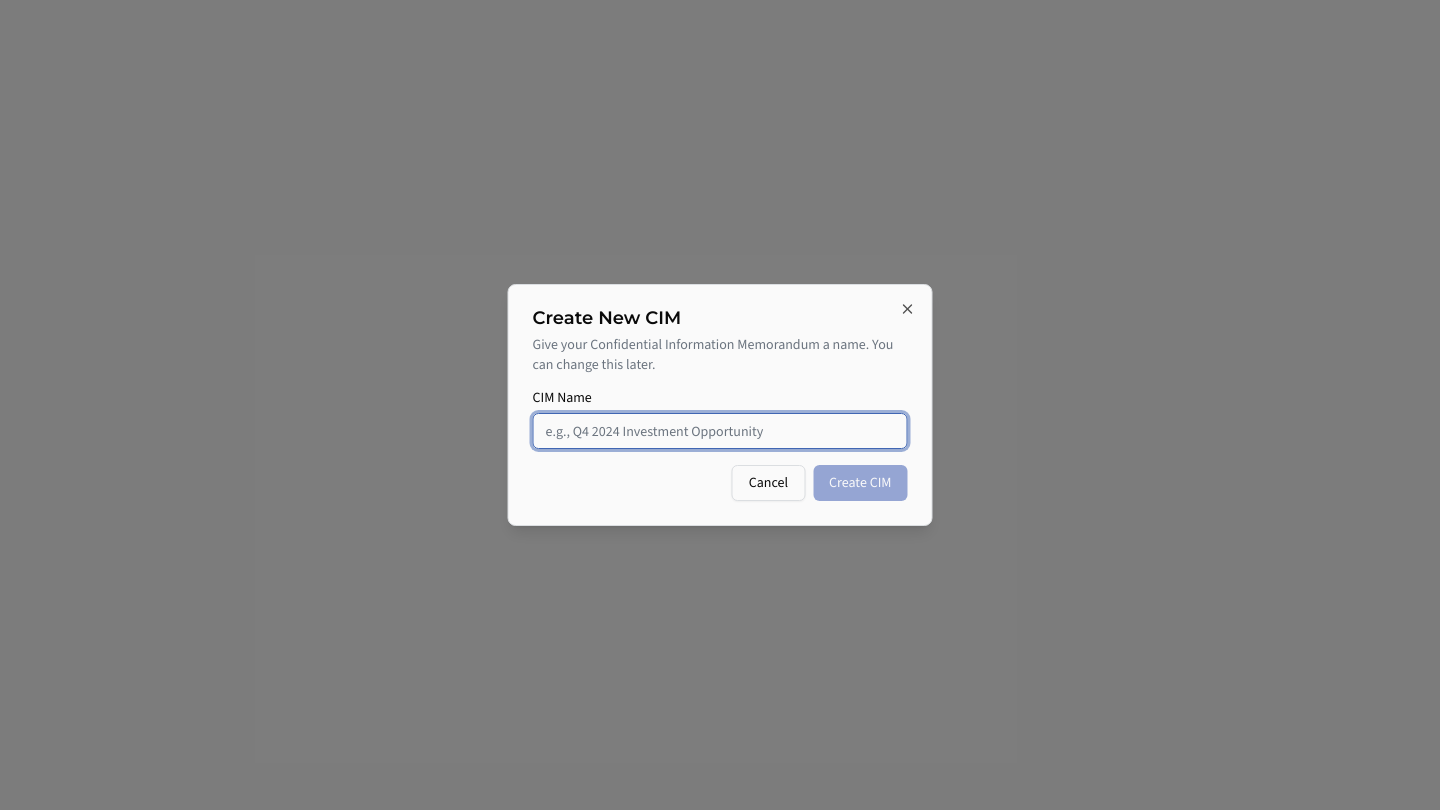
Test case: CreateCIMDialog › submission › should enable submit button when input has content
Type "Test" into the field labelled "CIM Name". click: (720, 431)
box: [532, 413, 908, 449]
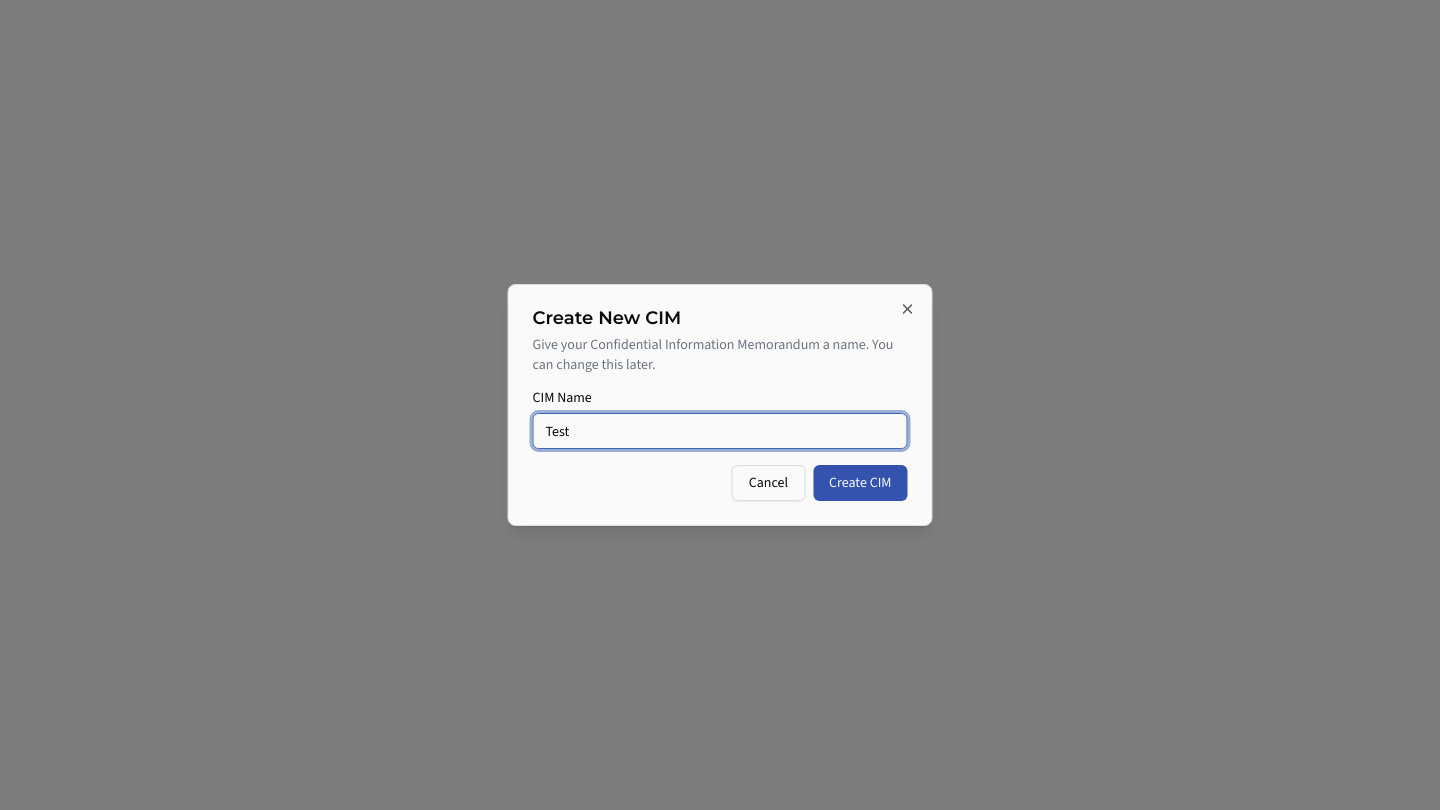
Now the button "Create CIM" is enabled, box [813, 465, 908, 501]
